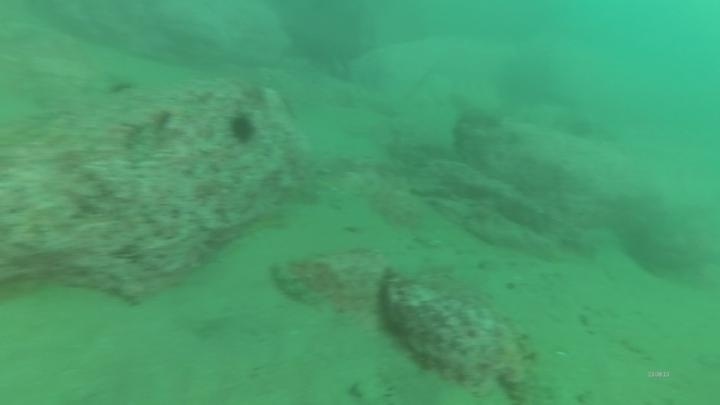echinus: (225, 110, 259, 147)
